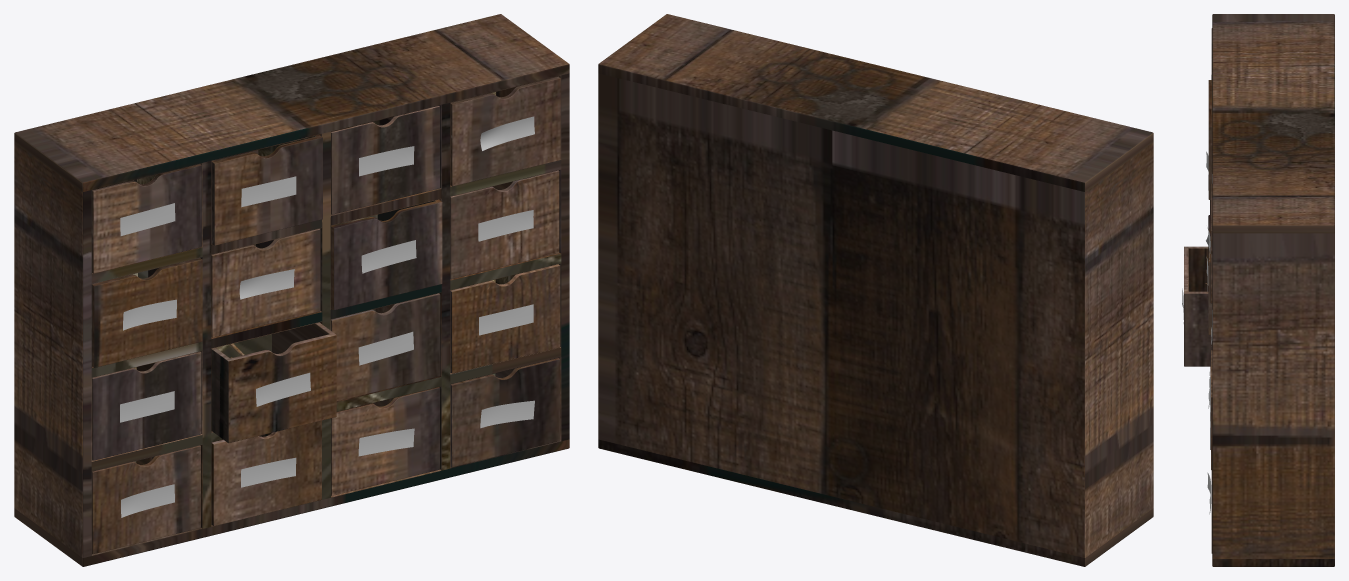
3 renders of one model, left to right at view 1: azimuth 30°, elevation 25°; view 2: azimuth 150°, elevation 25°; view 3: azimuth 270°, elevation 25°, orthographic. The views are drawn at different scales.
Visible parts, largest first — view 1: shelf02, Cube.012, Cube.007, Cube.010, Cube.015, Cube.002, Cube.004, Cube.005, Cube.014, Cube.016, Cube.011, Cube.003 (+21 smaller); view 2: shelf02; view 3: shelf02, Cube.012, Cube.010, Cube.007, Cube.002, Cube.004.
Boxes of the visible parts, bbox=[...] form: shelf02: bbox=[14, 14, 569, 566]; Cube.012: bbox=[211, 322, 336, 443]; Cube.007: bbox=[331, 199, 442, 310]; Cube.010: bbox=[211, 135, 322, 245]; Cube.015: bbox=[92, 258, 202, 367]; Cube.002: bbox=[450, 76, 560, 186]; Cube.004: bbox=[450, 264, 560, 373]; Cube.005: bbox=[450, 358, 559, 467]; Cube.014: bbox=[92, 164, 201, 273]; Cube.016: bbox=[92, 351, 201, 460]; Cube.011: bbox=[211, 229, 320, 337]; Cube.003: bbox=[450, 170, 559, 279]; shelf02: bbox=[598, 14, 1153, 566]; shelf02: bbox=[1212, 14, 1334, 566]; Cube.012: bbox=[1184, 246, 1212, 366]; Cube.010: bbox=[1208, 80, 1212, 199]; Cube.007: bbox=[1208, 215, 1212, 334]; Cube.002: bbox=[1210, 183, 1212, 303]; Cube.004: bbox=[1211, 350, 1212, 470].
Bounding box in the file's own units: 0.7529 × 0.5684 × 0.2301.
